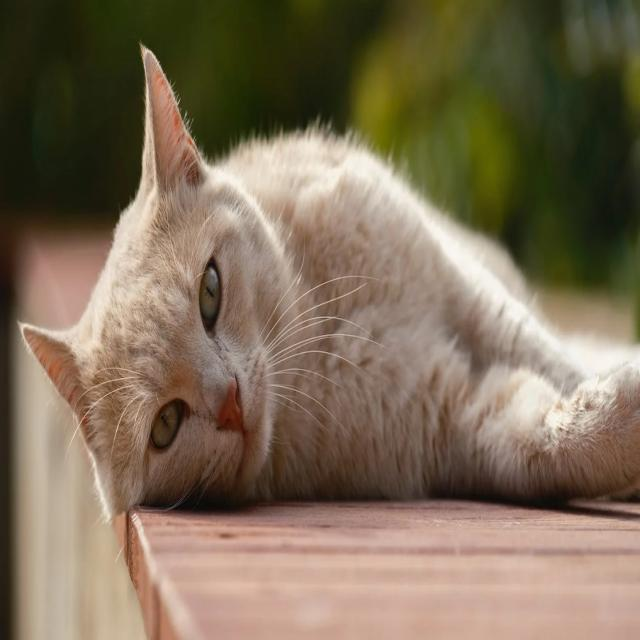cat: (12, 36, 640, 524)
